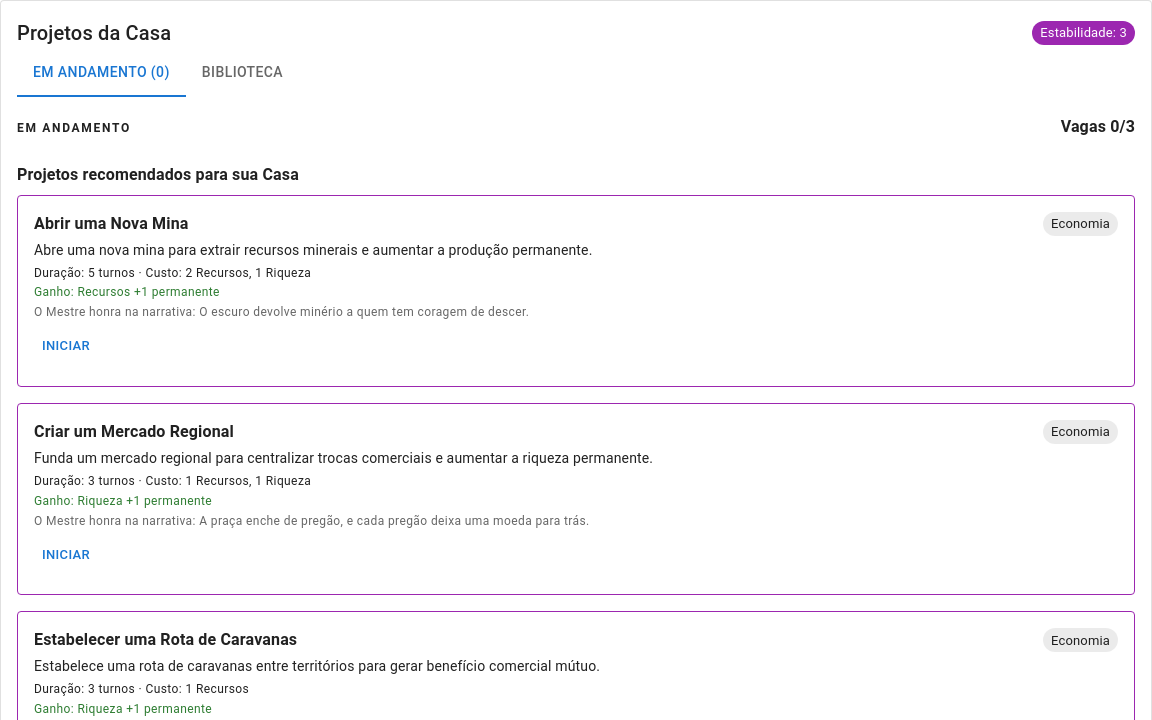
Test: Energia no painel de cartas › tocar em + desconta do cofre na hora e grava sem botão
What coordinates should you click on to do the following:
click the tab "Biblioteca"
I would click on:
 (242, 73)
Its box is [186,49,299,97].
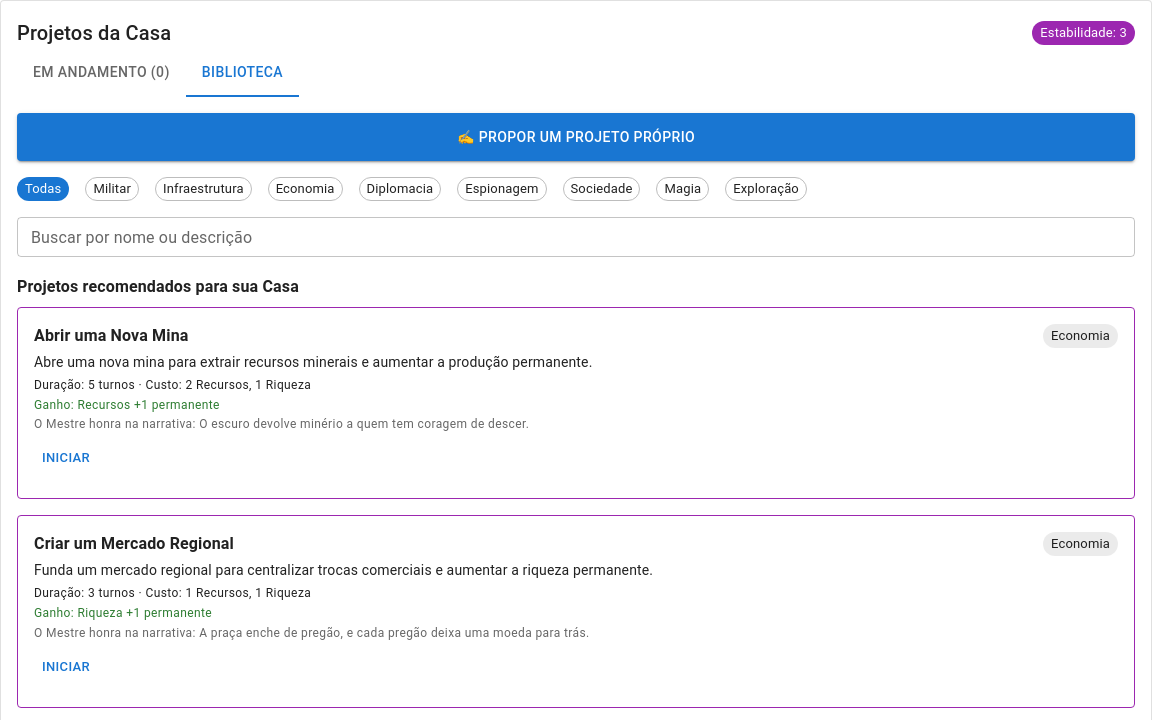
What coordinates should you click on to do the following:
click the 1st button "Iniciar"
I would click on:
 (66, 459)
Its box is [34,443,98,474].
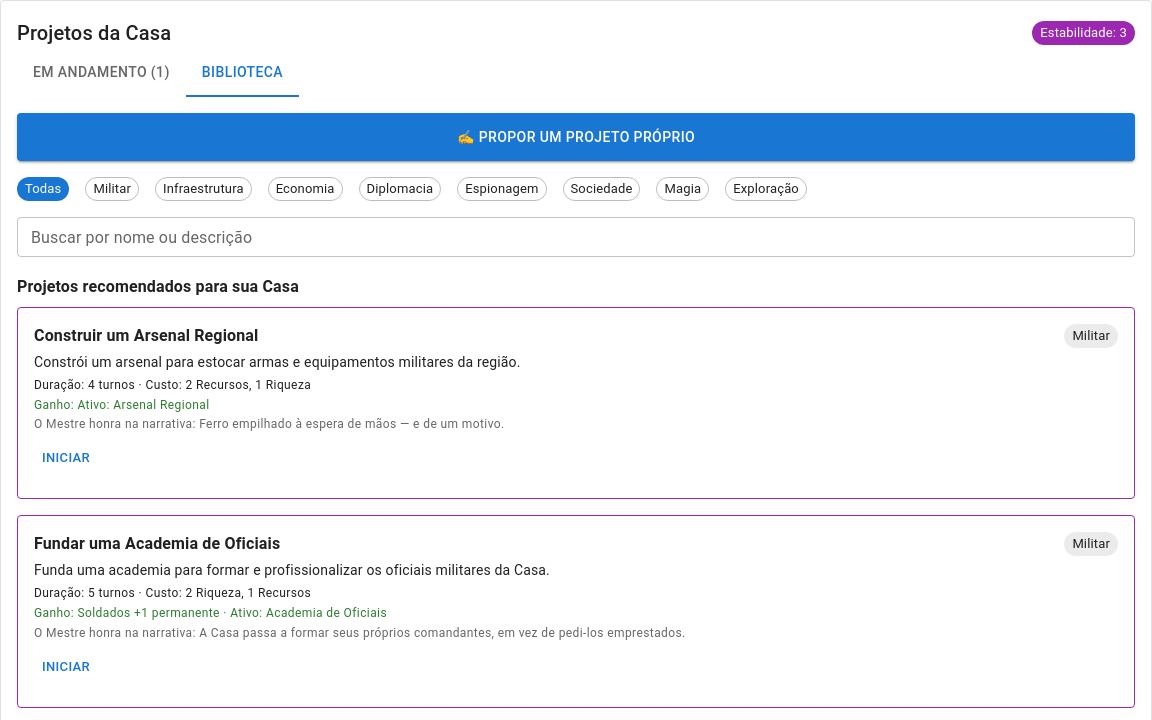
What coordinates should you click on to do the following:
click the tab "Em andamento (1)"
I would click on:
 (101, 73)
Its box is [17,49,186,97].
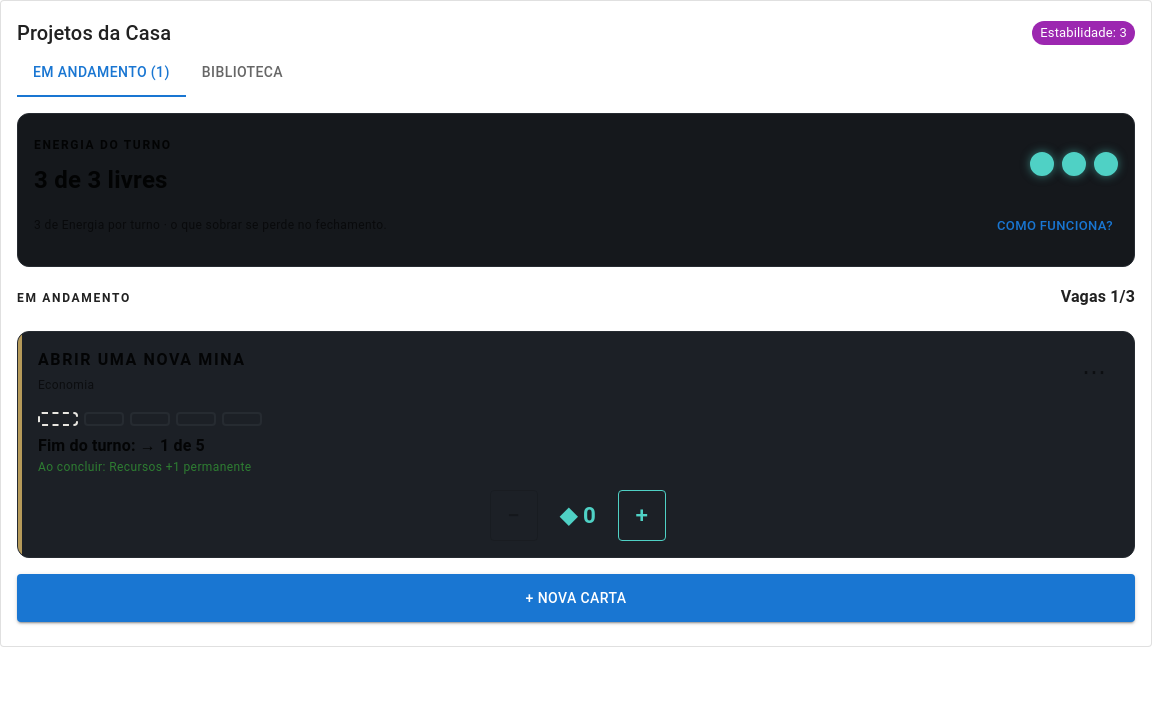
What coordinates should you click on to do the following:
click the button named "Pôr Energia em "
I would click on:
 (642, 515)
Its box is [618,490,666,541].
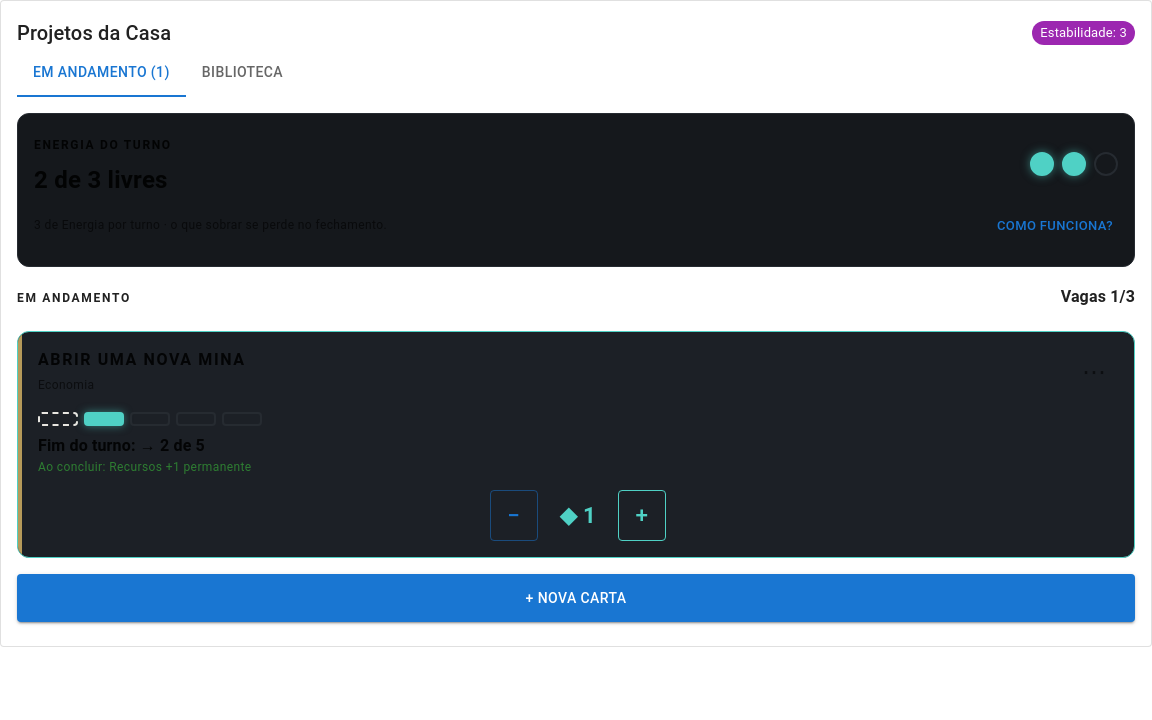
Check: the text "2 de 3 livres" is shown, box [34,162,172,198]
